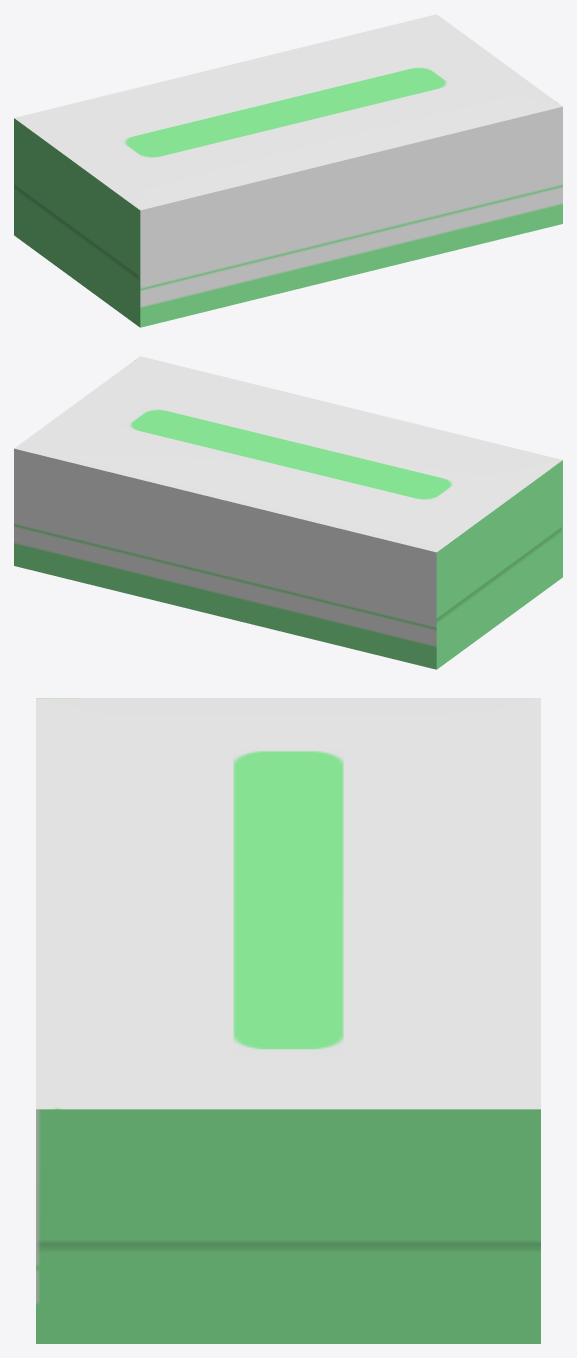
Rendered from tissue04_c.fbx.
3 renders of one model, top to bottom at view 1: azimuth 30°, elevation 25°; view 2: azimuth 150°, elevation 25°; view 3: azimuth 270°, elevation 25°, orthographic. The views are drawn at different scales.
Visible parts, largest first — view 1: polySurface4; view 2: polySurface4; view 3: polySurface4.
Part boxes in pixels (x1,y1,x2,y2): polySurface4: (14, 14, 562, 327); polySurface4: (14, 356, 562, 669); polySurface4: (36, 698, 540, 1343).
Size of the model in its own units: 13.62 by 3.63 by 7.05.
1 material, 1 textured.
